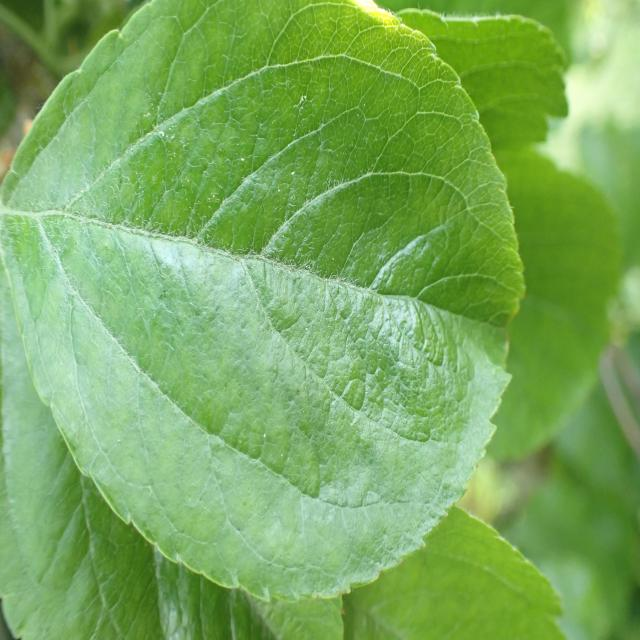healthy: (0, 0, 526, 605), (341, 503, 568, 640)
